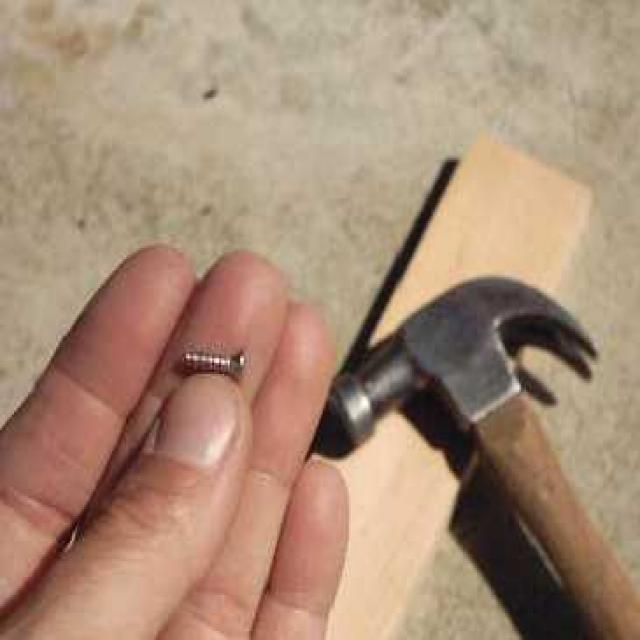hammer: (308, 259, 639, 639)
